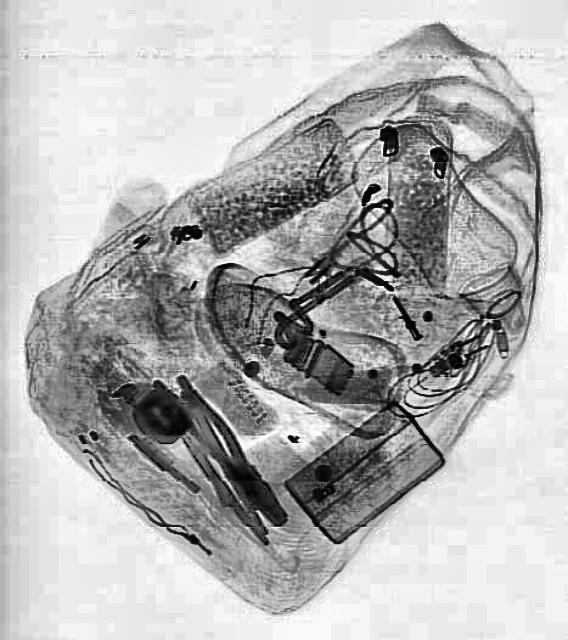Pliers: (144, 359, 297, 535)
